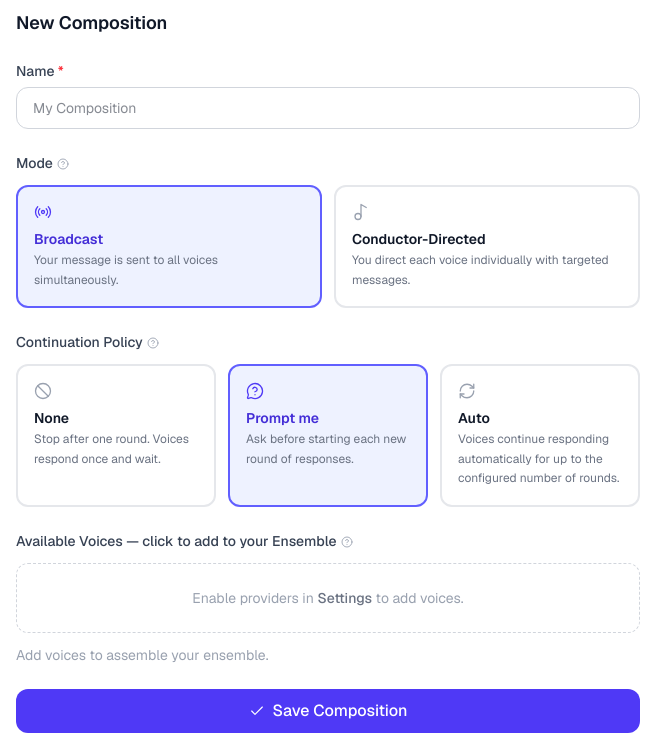
CompositionBuilder › broadcast → conductor → broadcast: continuation policy shows/hides correctly
expect the text "Continuation Policy" is shown: met, box [16,333,159,351]
Click the button "Conductor-Directed" at [487, 246], box [334,185,640,308]
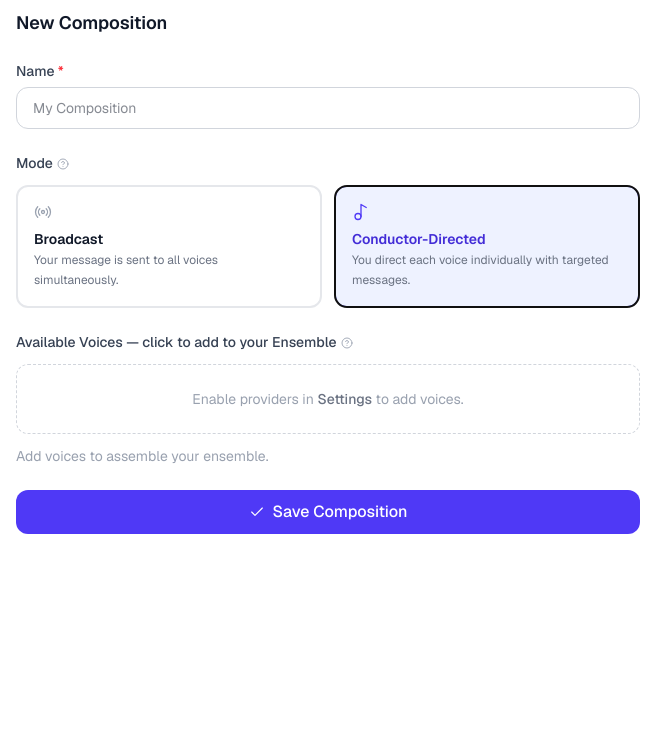
expect the text "Continuation Policy" is gone: met
Click the button "Broadcast Your message is sent to all voices simultaneously." at [69, 239], box [16,185,322,308]
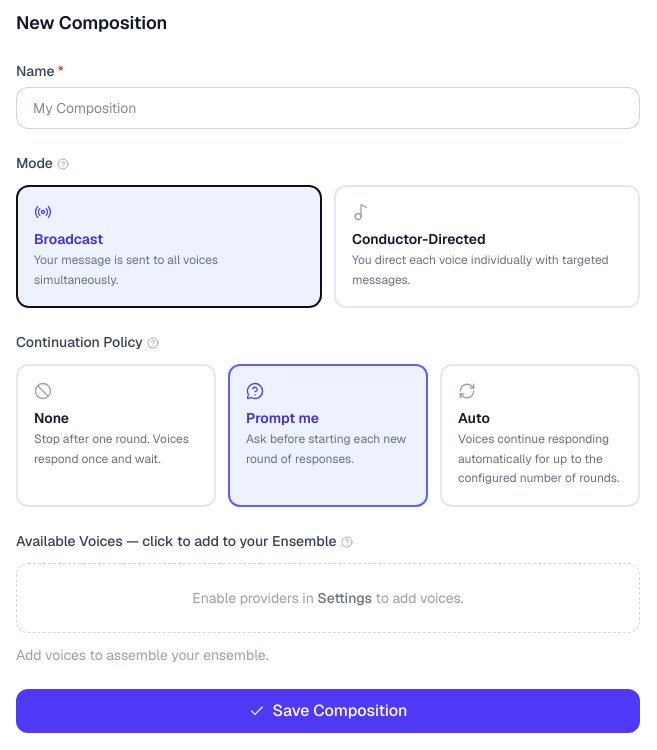
expect the text "Continuation Policy" is shown: met, box [16,333,159,351]
